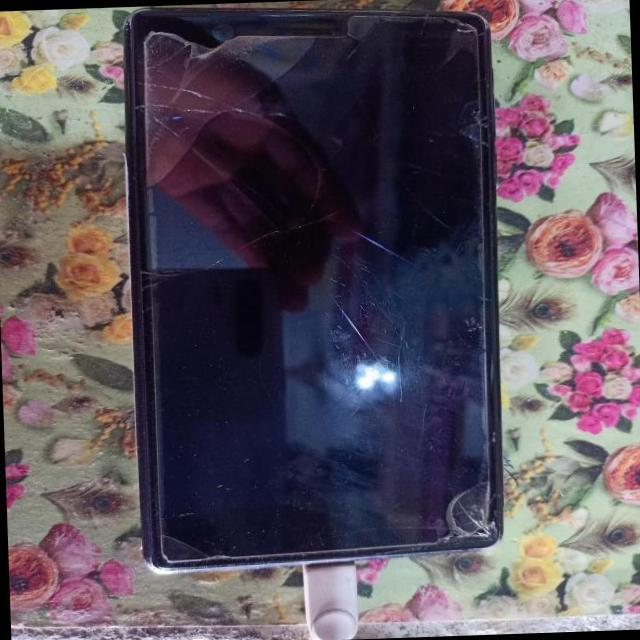Dislodged Screen: (134, 37, 254, 162), (448, 469, 508, 552)
Scratches: (315, 273, 435, 414)
